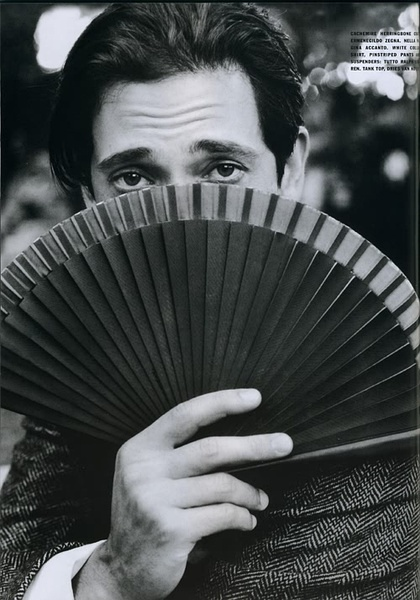face: (95, 67, 271, 370)
